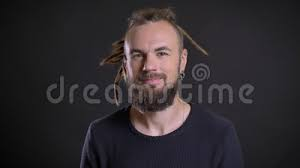white_male: (124, 7, 184, 103)
